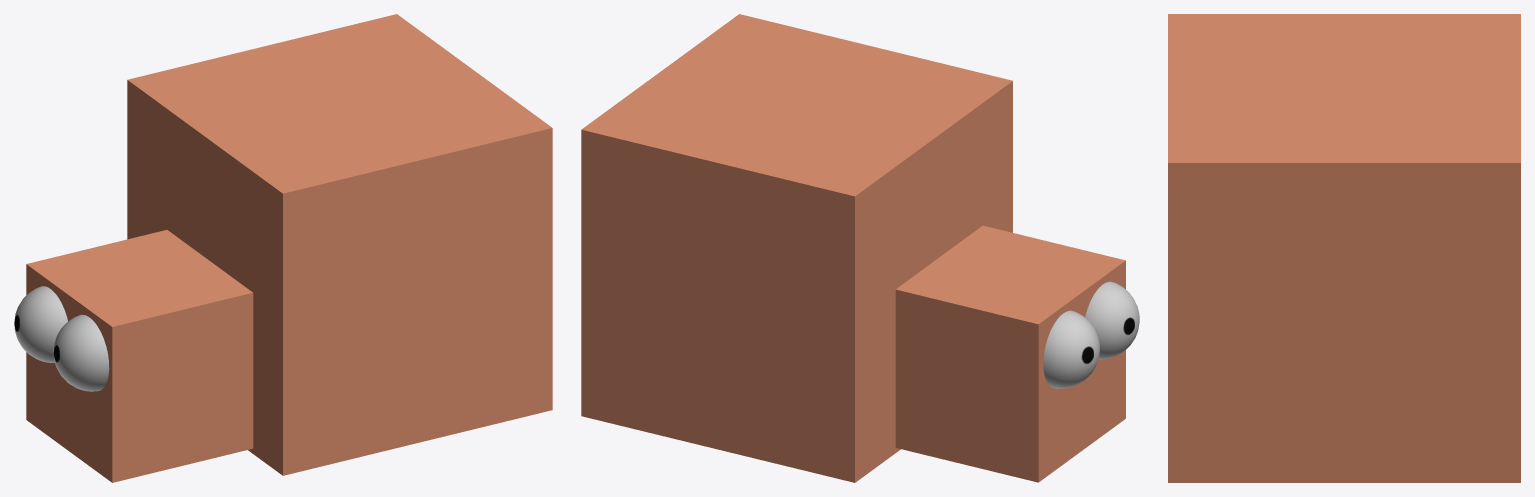
The model's file is bob.glb.
3 renders of one model, left to right at view 1: azimuth 30°, elevation 25°; view 2: azimuth 150°, elevation 25°; view 3: azimuth 270°, elevation 25°, orthographic. The views are drawn at different scales.
Parts seen in each view (by area): view 1: Cube.004, Cube, Cube.002, Sphere.001, Sphere; view 2: Cube.004, Cube.002, Cube, Sphere, Sphere.001; view 3: Cube.002, Cube.004.
Boxes of the visible parts, x1=… form: Cube.004: x1=127, y1=14, x2=552, y2=475; Cube: x1=26, y1=230, x2=253, y2=482; Cube.002: x1=128, y1=14, x2=552, y2=471; Sphere.001: x1=53, y1=314, x2=109, y2=391; Sphere: x1=14, y1=286, x2=67, y2=362; Cube.004: x1=581, y1=14, x2=1012, y2=482; Cube.002: x1=581, y1=21, x2=1012, y2=480; Cube: x1=895, y1=225, x2=1125, y2=482; Sphere: x1=1043, y1=310, x2=1099, y2=388; Sphere.001: x1=1085, y1=281, x2=1139, y2=359; Cube.002: x1=1168, y1=36, x2=1520, y2=482; Cube.004: x1=1168, y1=14, x2=1520, y2=482.
Size of the model in its own units: 5.93 by 3.62 by 3.62.
Materials: 3 (1 with a texture image).
